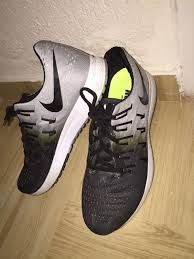nike: (41, 49, 65, 112)
